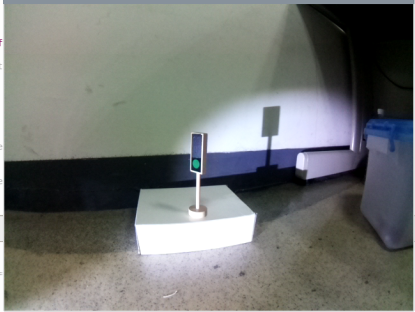Green: (188, 130, 208, 175)
